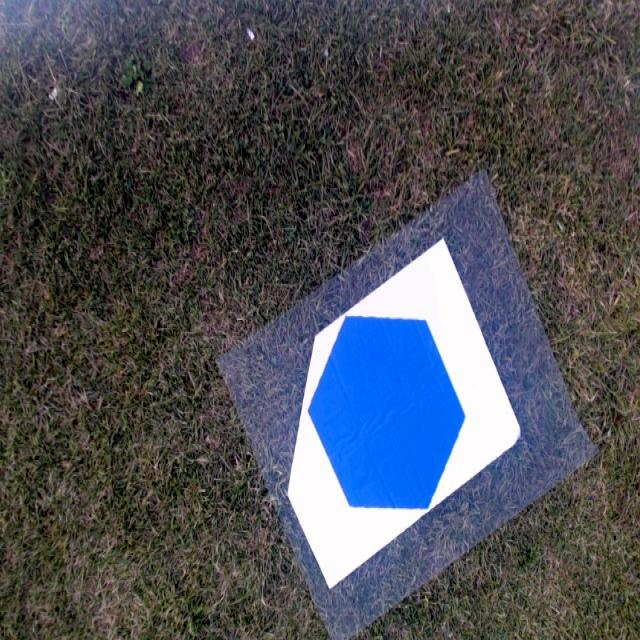blue_hexagon: (308, 312, 465, 508)
